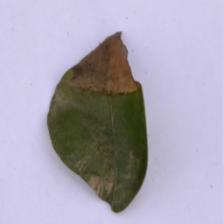black spot: (55, 25, 147, 96)
